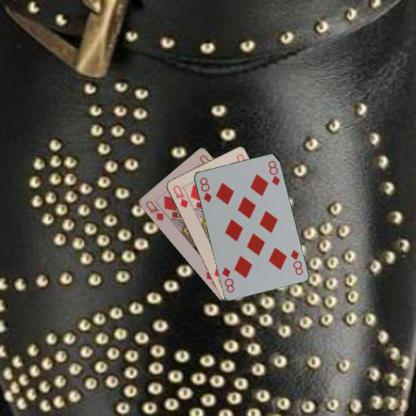8d: (197, 174, 213, 204), (288, 247, 304, 276)
Qd: (142, 198, 165, 222), (170, 183, 189, 209)
